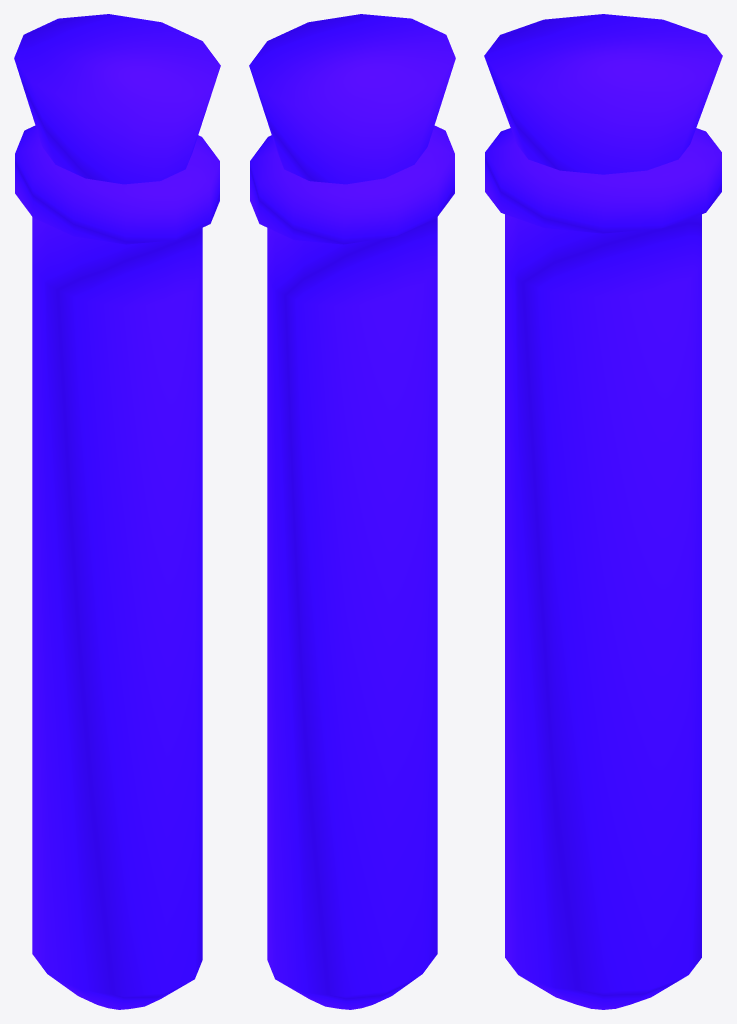
File: PotionSmall.fbx
3 views of the same model, side by side, from view 1: azimuth 30°, elevation 25°; view 2: azimuth 150°, elevation 25°; view 3: azimuth 270°, elevation 25° (orthographic).
Parts seen in each view (by area): view 1: PotionSmall, PotionSmallCork; view 2: PotionSmall, PotionSmallCork; view 3: PotionSmall, PotionSmallCork.
Boxes of the visible parts, x1,y1,x2,y2 form: PotionSmall: (15, 125, 219, 1009); PotionSmallCork: (14, 14, 220, 184); PotionSmall: (250, 125, 454, 1009); PotionSmallCork: (249, 14, 455, 184); PotionSmall: (485, 128, 721, 1009); PotionSmallCork: (484, 14, 722, 174).
Size of the model in its own units: 3.23 by 16.97 by 3.88.
